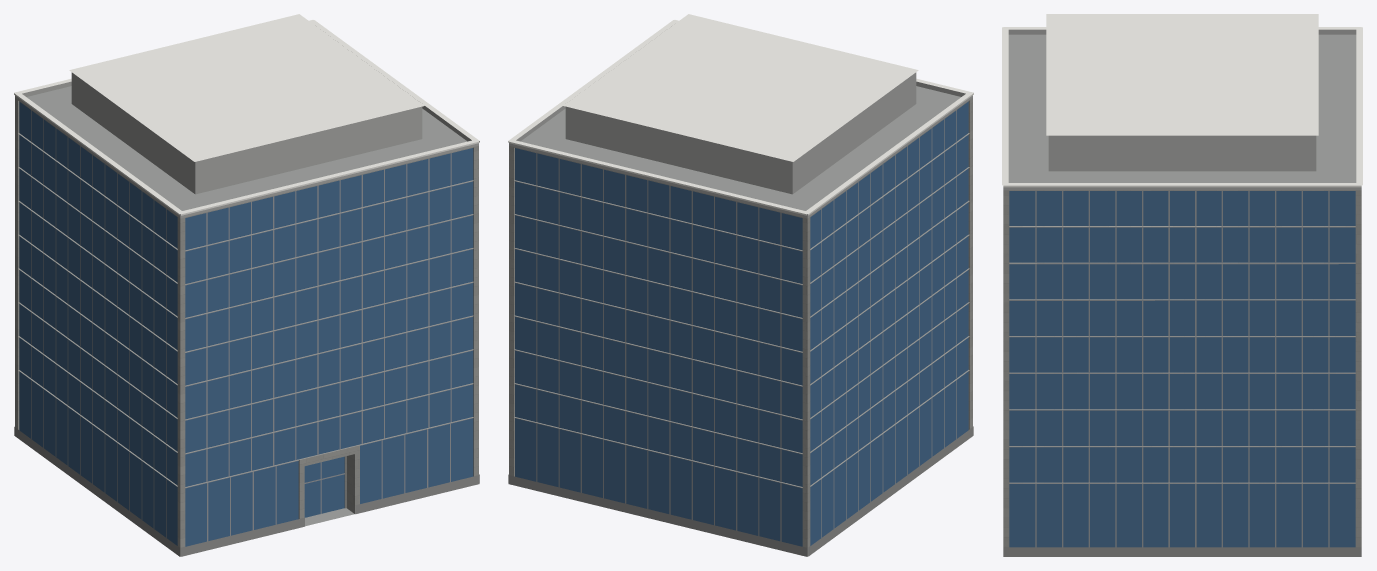
The picture shows the model from 3 angles, left to right: view 1: azimuth 30°, elevation 25°; view 2: azimuth 150°, elevation 25°; view 3: azimuth 270°, elevation 25°; orthographic projection. The views are drawn at different scales.
Visible parts, largest first — view 1: memorial__glass, memorial__trim, memorial__frame, memorial__wall, memorial__wall2, memorial__roof, memorial__base, memorial__parapet; view 2: memorial__glass, memorial__trim, memorial__frame, memorial__wall, memorial__wall2, memorial__roof, memorial__base, memorial__parapet; view 3: memorial__glass, memorial__trim, memorial__roof, memorial__frame, memorial__wall2, memorial__wall, memorial__base, memorial__parapet.
Part boxes in pixels (x1,y1,x2,y2): memorial__glass: [19, 101, 473, 546]; memorial__trim: [14, 14, 479, 215]; memorial__frame: [31, 110, 473, 541]; memorial__wall: [15, 98, 478, 556]; memorial__wall2: [71, 72, 422, 194]; memorial__roof: [26, 86, 467, 526]; memorial__base: [14, 426, 479, 556]; memorial__parapet: [15, 81, 478, 218]; memorial__glass: [515, 101, 968, 546]; memorial__trim: [508, 14, 973, 215]; memorial__frame: [514, 110, 956, 541]; memorial__wall: [509, 97, 972, 556]; memorial__wall2: [565, 72, 916, 194]; memorial__roof: [521, 86, 960, 210]; memorial__base: [508, 426, 973, 556]; memorial__parapet: [509, 26, 972, 218]; memorial__glass: [1009, 191, 1355, 547]; memorial__trim: [1002, 14, 1362, 187]; memorial__roof: [1008, 34, 1356, 182]; memorial__frame: [1009, 191, 1355, 547]; memorial__wall2: [1048, 135, 1316, 171]; memorial__wall: [1003, 190, 1361, 547]; memorial__base: [1003, 547, 1361, 556]; memorial__parapet: [1003, 29, 1361, 190].
Size of the model in its own units: 20.91 by 24.73 by 20.07.
9 materials, 1 textured.
